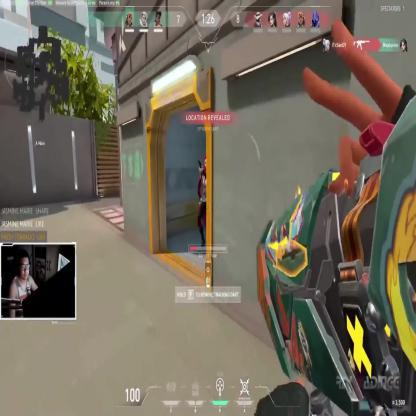enemy: (194, 150, 218, 254)
enemy_head: (204, 156, 210, 173)
